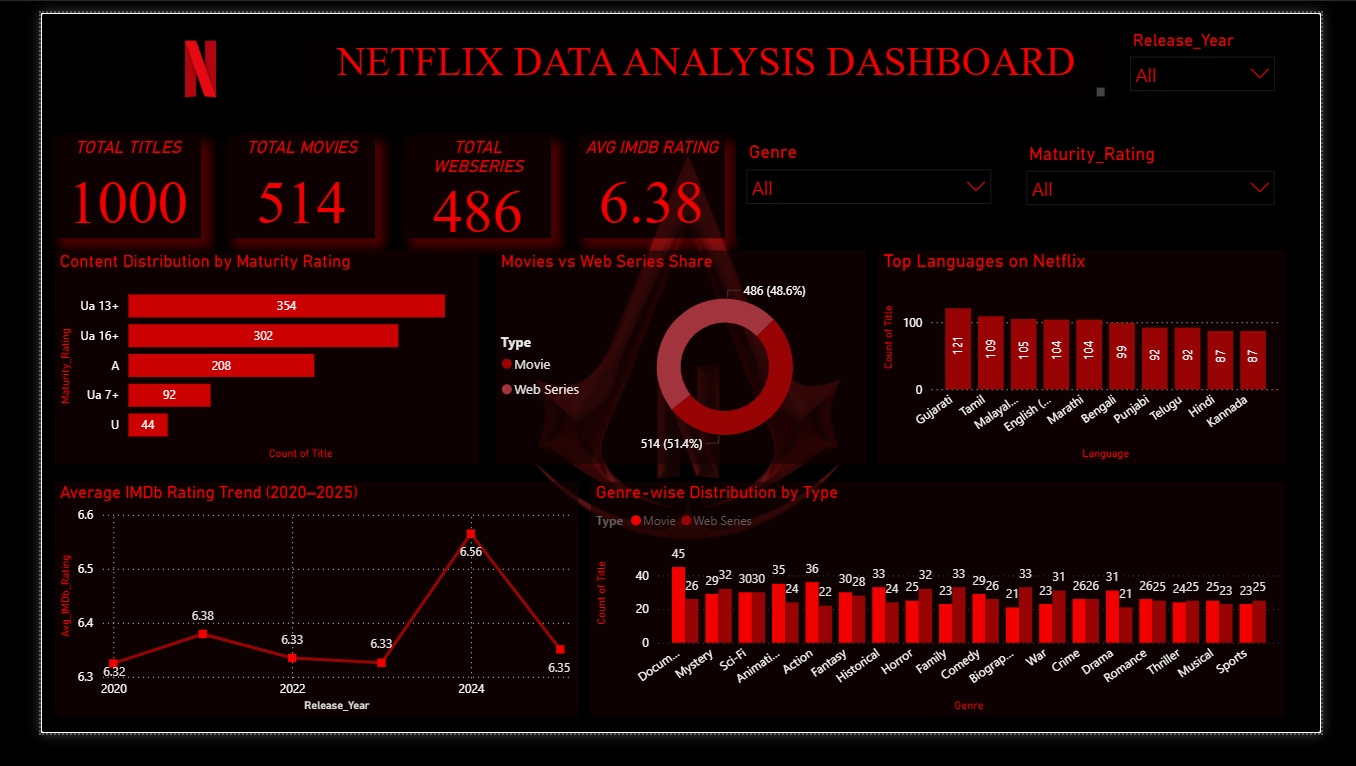

What the dashboard file says about the page in this screenshot:
{"tool":"powerbi","page":{"name":"Page 1","canvas":[1280,720],"ordinal":0},"visuals":[{"type":"image","box":[88.8,12.5,141.2,87.5],"z":0},{"type":"textbox","title":"NETFLIX DATA ANALYSIS DASHBOARD","box":[261.2,25,807.5,63.8],"z":1000},{"type":"card","title":"TOTAL TITLES","fields":{"Values":["CountNonNull(Netflix.Title)"]},"box":[13.8,123.8,146.2,101.2],"z":2000},{"type":"card","title":"TOTAL MOVIES","fields":{"Values":["Netflix.Total_Movies"]},"box":[187.5,123.8,146.2,101.2],"z":3000},{"type":"card","title":"TOTAL WEBSERIES","fields":{"Values":["Netflix.Total_Series"]},"box":[363.8,123.8,146.2,101.2],"z":4000},{"type":"card","title":"AVG IMDB RATING","fields":{"Values":["Netflix.Avg_IMDb_Rating"]},"box":[537.5,123.8,146.2,101.2],"z":5000},{"type":"barChart","title":"Content Distribution by Maturity Rating","fields":{"Category":["Netflix.Maturity_Rating"],"Y":["CountNonNull(Netflix.Title)"]},"box":[13.8,237.5,423.8,213.8],"z":6000},{"type":"donutChart","title":"Movies vs Web Series Share","fields":{"Y":["CountNonNull(Netflix.Title)"],"Category":["Netflix.Type"]},"box":[455,237.5,370,213.8],"z":7000},{"type":"lineChart","title":"Average IMDb Rating Trend (2020–2025)","fields":{"Category":["Netflix.Release_Year"],"Y":["Netflix.Avg_IMDb_Rating"]},"box":[13.8,468.8,523.8,235],"z":8000},{"type":"columnChart","title":"Top Languages on Netflix","fields":{"Category":["Netflix.Language"],"Y":["CountNonNull(Netflix.Title)"]},"box":[837.5,237.5,406.2,213.8],"z":9000},{"type":"clusteredColumnChart","title":"Genre-wise Distribution by Type","fields":{"Category":["Netflix.Genre"],"Y":["CountNonNull(Netflix.Title)"],"Series":["Netflix.Type"]},"box":[550,468.8,693.8,235],"z":10000},{"type":"slicer","fields":{"Values":["Netflix.Maturity_Rating"]},"box":[975,125,268.8,101.2],"z":12000},{"type":"slicer","fields":{"Values":["Netflix.Release_Year"]},"box":[1078.8,12.5,165,87.5],"z":13000},{"type":"slicer","fields":{"Values":["Netflix.Genre"]},"box":[695,123.8,265,101.2],"z":14000}]}

Visuals, with their boxes in screenshot pixels (x1, y1, x2, y2), scaled from the page's 1280x720 canvas onto the 1356x766 screenshot:
image: Rect(94, 13, 244, 106)
"NETFLIX DATA ANALYSIS DASHBOARD" textbox: Rect(277, 27, 1132, 94)
"TOTAL TITLES" card: Rect(15, 132, 170, 239)
"TOTAL MOVIES" card: Rect(199, 132, 354, 239)
"TOTAL WEBSERIES" card: Rect(385, 132, 540, 239)
"AVG IMDB RATING" card: Rect(569, 132, 724, 239)
"Content Distribution by Maturity Rating" barChart: Rect(15, 253, 464, 480)
"Movies vs Web Series Share" donutChart: Rect(482, 253, 874, 480)
"Average IMDb Rating Trend (2020–2025)" lineChart: Rect(15, 499, 570, 749)
"Top Languages on Netflix" columnChart: Rect(887, 253, 1318, 480)
"Genre-wise Distribution by Type" clusteredColumnChart: Rect(583, 499, 1318, 749)
slicer - Netflix.Maturity_Rating: Rect(1033, 133, 1318, 241)
slicer - Netflix.Release_Year: Rect(1143, 13, 1318, 106)
slicer - Netflix.Genre: Rect(736, 132, 1017, 239)
